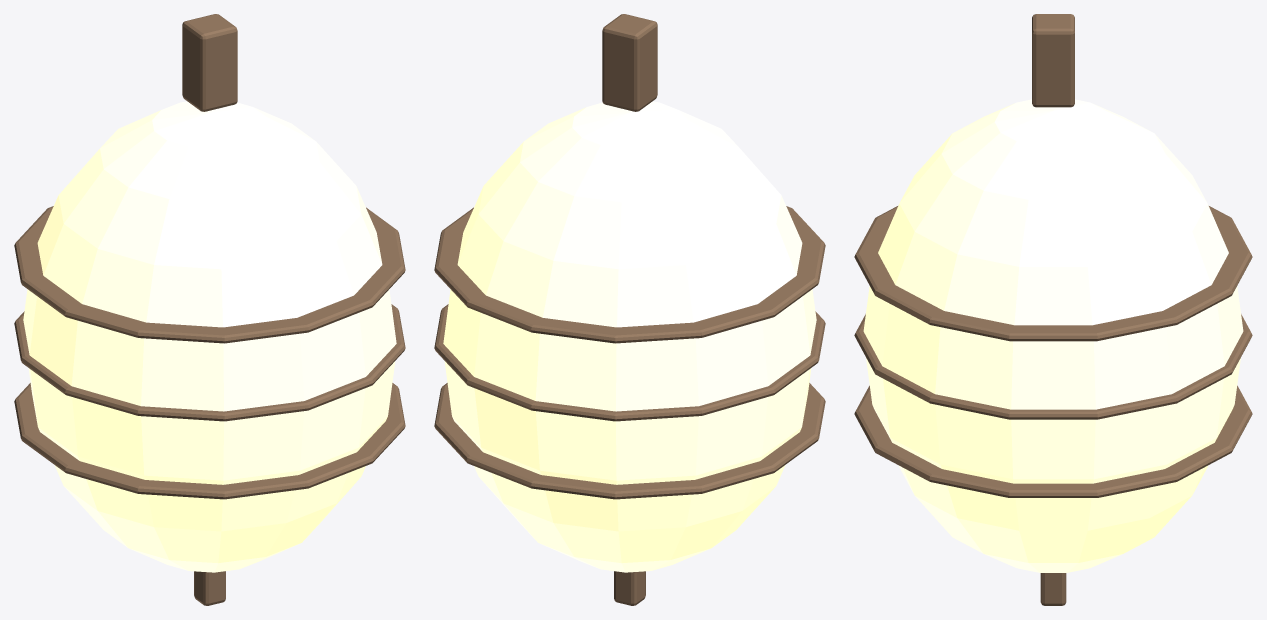
File: chochin.glb
The picture shows the model from 3 angles, left to right: view 1: azimuth 30°, elevation 25°; view 2: azimuth 150°, elevation 25°; view 3: azimuth 270°, elevation 25°; orthographic projection.
Parts seen in each view (by area): view 1: Chochin; view 2: Chochin; view 3: Chochin.
Boxes of the visible parts, <box> form: Chochin: <box>14,14,405,605</box>; Chochin: <box>434,14,825,605</box>; Chochin: <box>854,14,1252,605</box>.
Bounding box in the file's own units: 0.4485 × 0.74 × 0.46.
